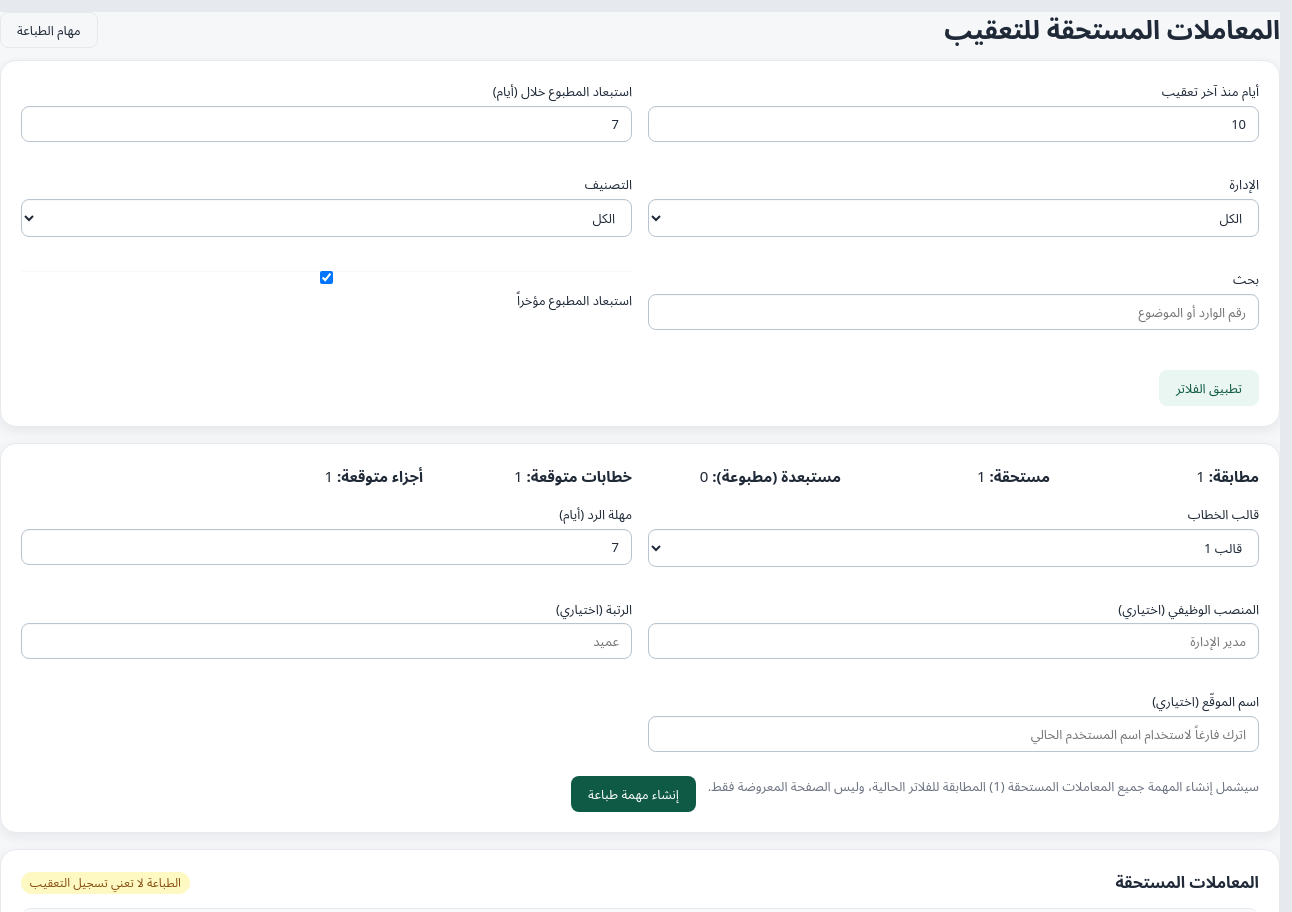
Test: FollowUpPrintEligiblePage › disables the create button while creating
The width and height of the screenshot is (1292, 912).
Click the button "إنشاء مهمة طباعة": (633, 794) [571, 776, 696, 812]
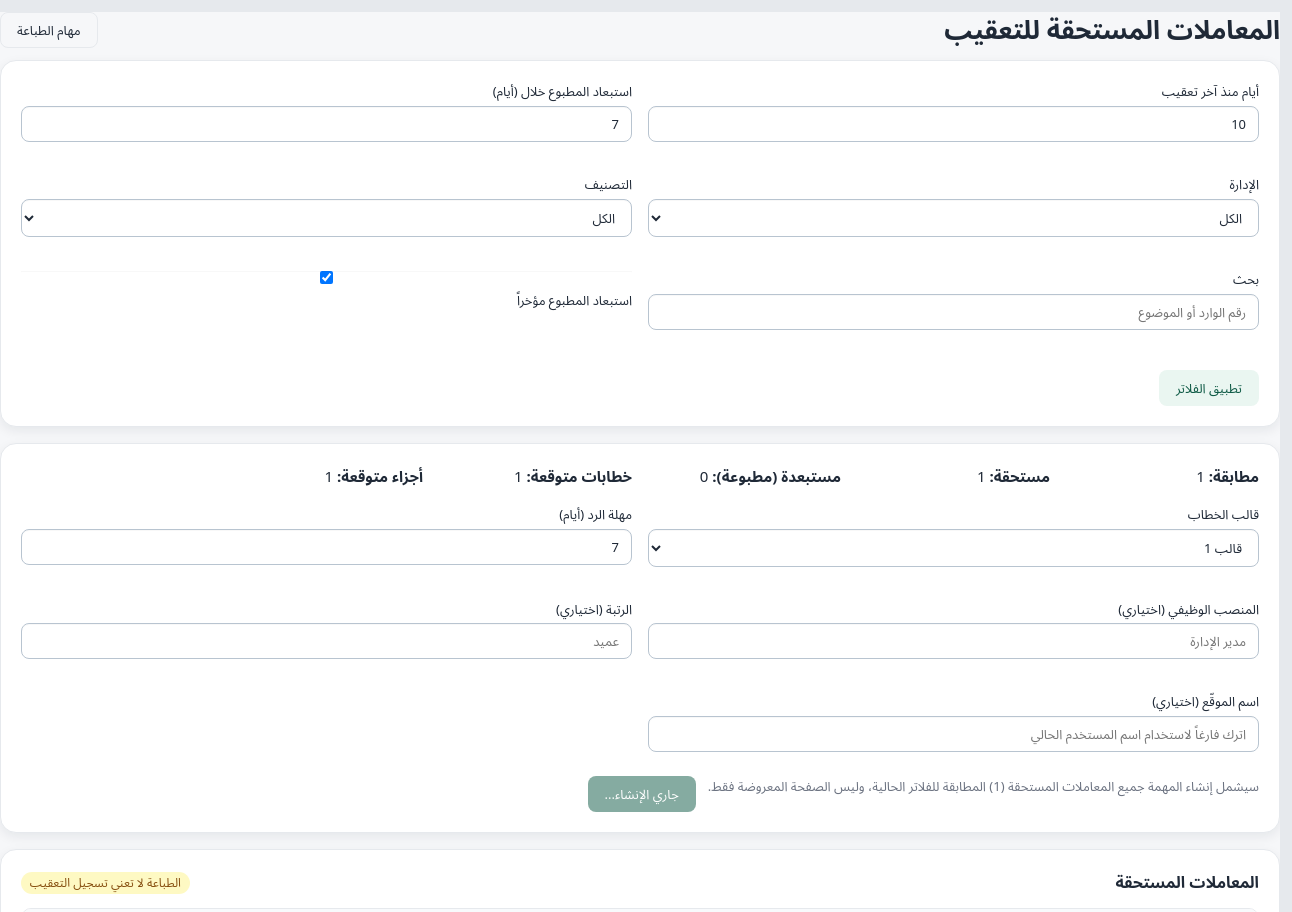
expect the button "جاري الإنشاء..." is disabled: met, box [588, 776, 696, 812]
